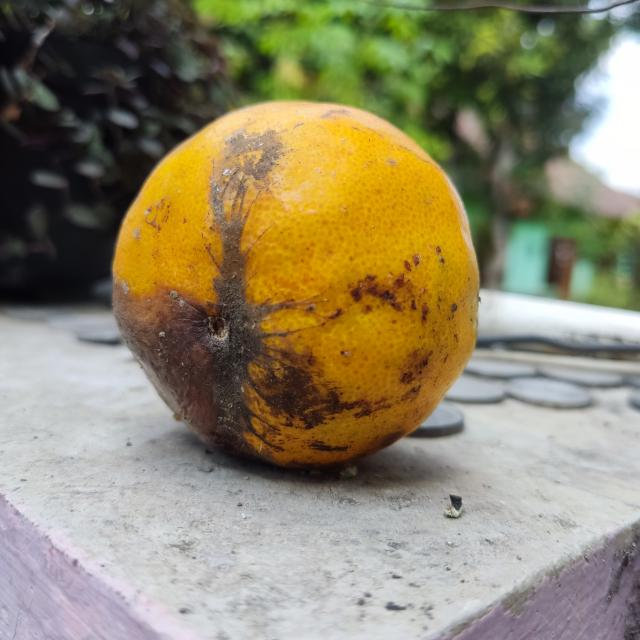orange: (109, 99, 483, 466)
